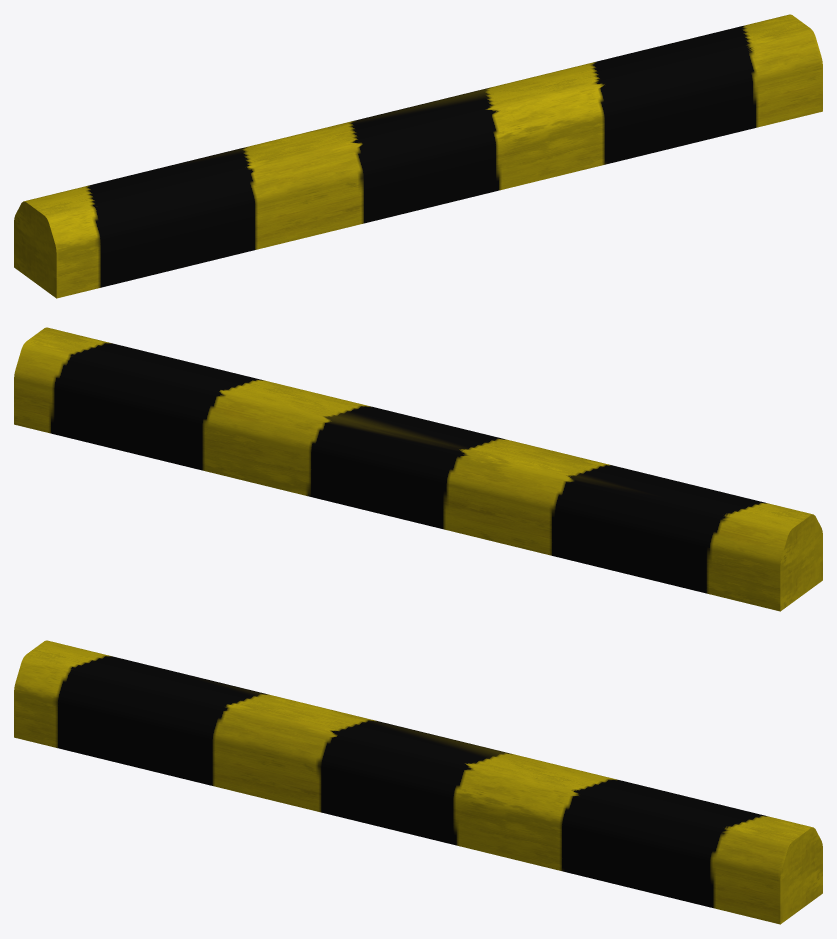
Rendered from Parking_Stopper.fbx.
3 renders of one model, top to bottom at view 1: azimuth 30°, elevation 25°; view 2: azimuth 150°, elevation 25°; view 3: azimuth 330°, elevation 25°, orthographic.
Parts seen in each view (by area): view 1: Parking_stopper; view 2: Parking_stopper; view 3: Parking_stopper.
Part boxes in pixels (box(x1,y1,x2,y2)): Parking_stopper: box(14, 14, 822, 298); Parking_stopper: box(14, 327, 822, 611); Parking_stopper: box(14, 640, 822, 924).
Size of the model in its own units: 260 by 24.02 by 25.
1 material, 1 textured.
